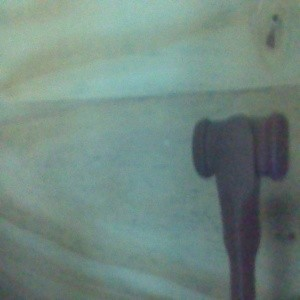palu: (191, 112, 290, 300)
